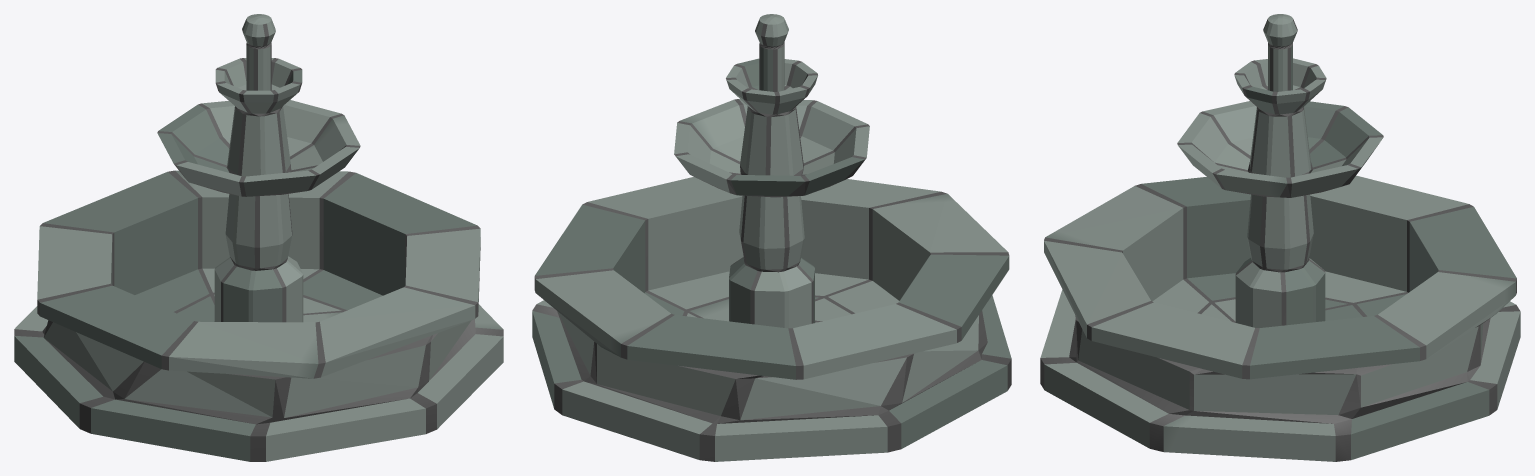
Rendered from Fountain_01.fbx.
3 renders of one model, left to right at view 1: azimuth 30°, elevation 25°; view 2: azimuth 150°, elevation 25°; view 3: azimuth 270°, elevation 25°, orthographic.
Parts seen in each view (by area): view 1: Fountain_01; view 2: Fountain_01; view 3: Fountain_01.
Boxes of the visible parts, bbox=[...] form: Fountain_01: bbox=[14, 14, 503, 461]; Fountain_01: bbox=[532, 14, 1011, 461]; Fountain_01: bbox=[1040, 14, 1520, 461].
Size of the model in its own units: 2.19 by 1.73 by 2.19.
